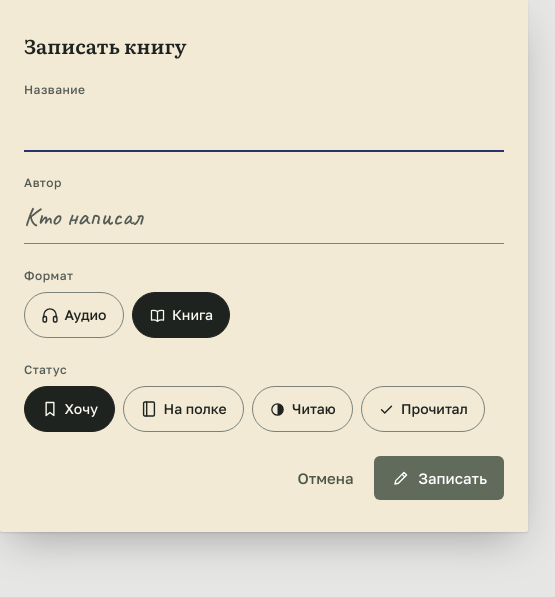
Test: EntryForm › says it in Russian with the status form of the format
Type "Солярис" into the field labelled "Название" at (264, 127), box x1=24 y1=102 x2=504 y2=152
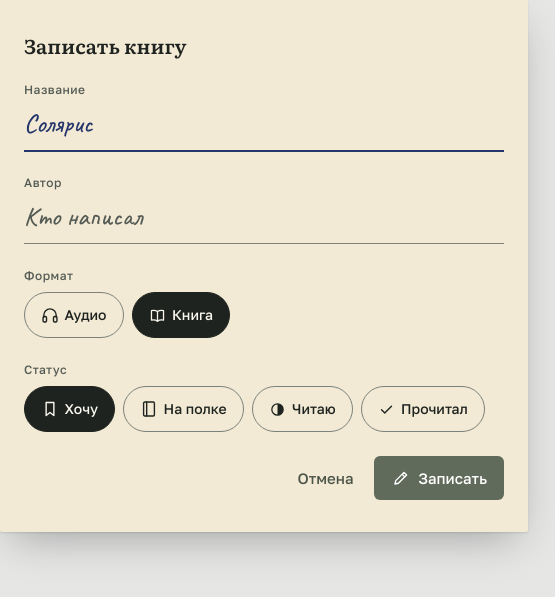
Click the button "Записать" at (439, 478), box x1=374 y1=456 x2=504 y2=500
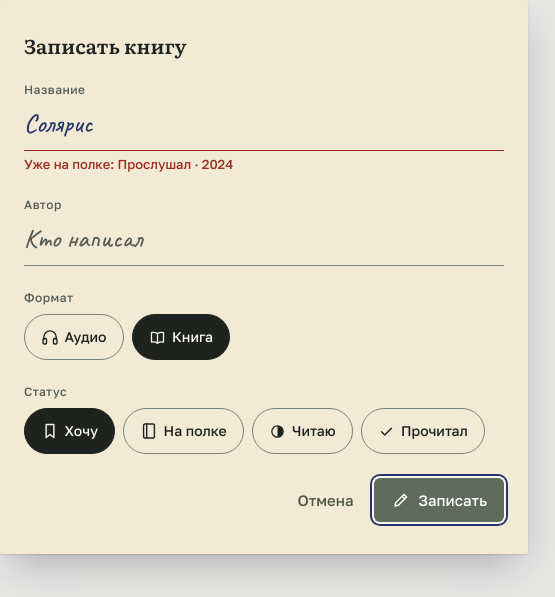
Result: the text "Уже на полке: Прослушал · 2024" is shown at x1=24 y1=156 x2=233 y2=172
